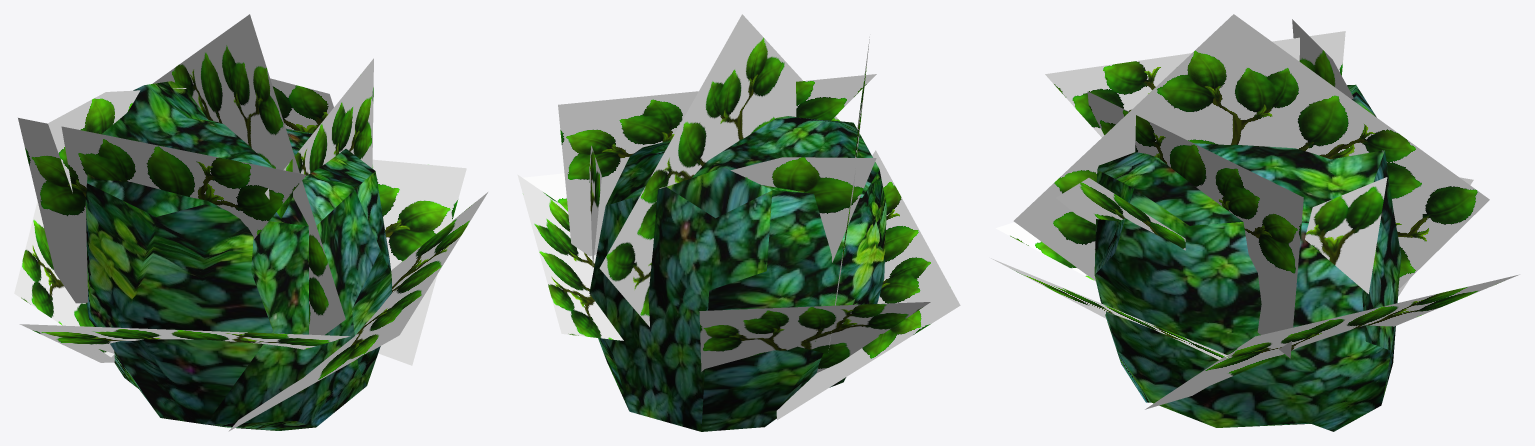
Rendered from Bush3.fbx.
3 renders of one model, left to right at view 1: azimuth 30°, elevation 25°; view 2: azimuth 150°, elevation 25°; view 3: azimuth 270°, elevation 25°, orthographic. The views are drawn at different scales.
Visible parts, largest first — view 1: Bush1; view 2: Bush1; view 3: Bush1.
Boxes of the visible parts, x1,y1,x2,y2 form: Bush1: (14, 14, 487, 431); Bush1: (517, 14, 960, 431); Bush1: (991, 14, 1519, 431).
Bounding box in the file's own units: 0.0658 × 0.0545 × 0.0661.
